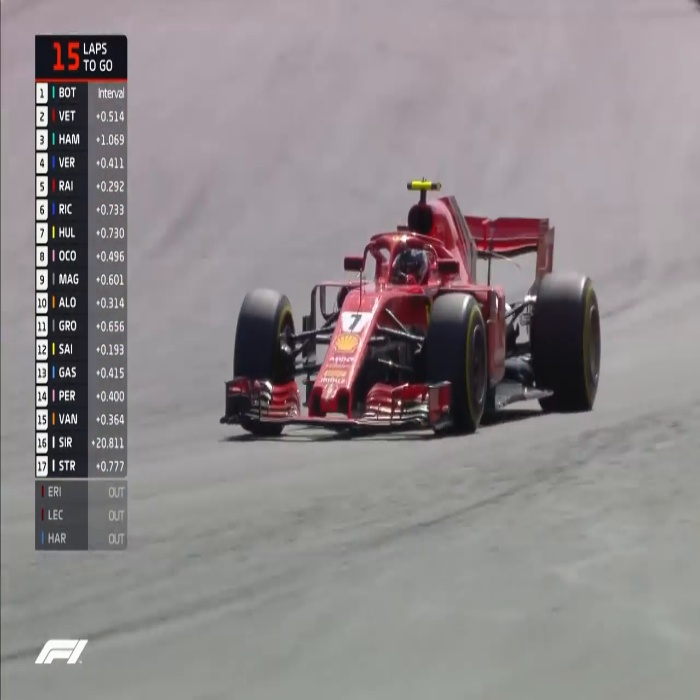f1_car: (207, 170, 635, 491)
